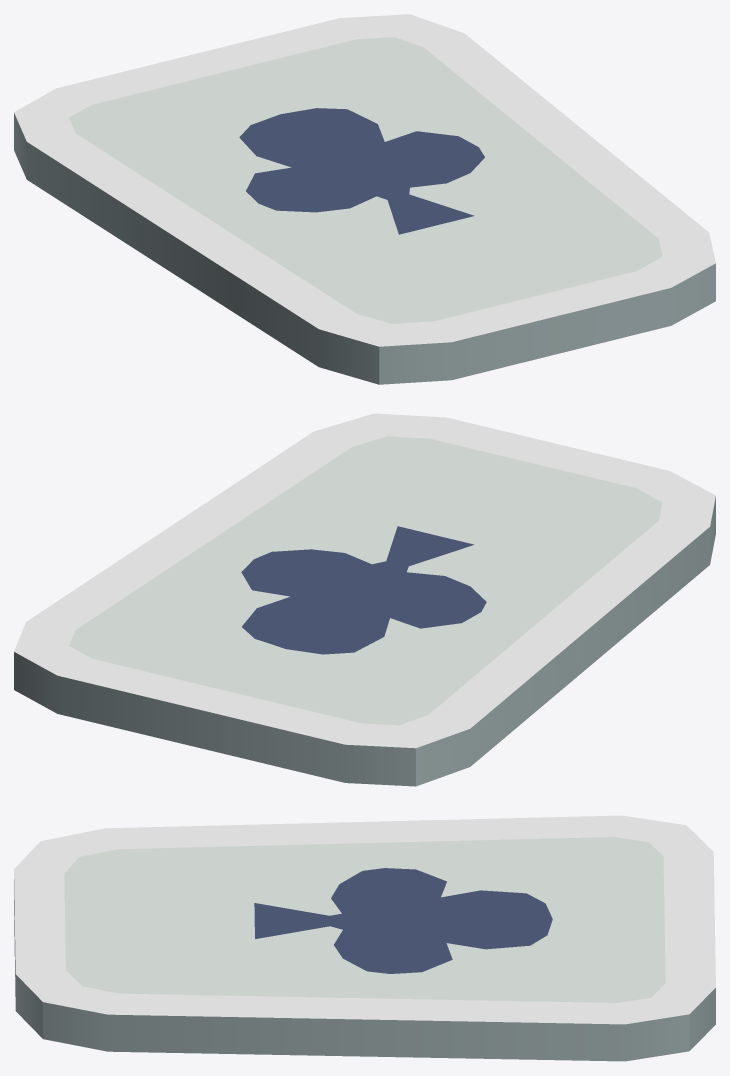
The model's file is Card_Club.fbx.
3 views of the same model, one above another, from view 1: azimuth 30°, elevation 25°; view 2: azimuth 150°, elevation 25°; view 3: azimuth 270°, elevation 25° (orthographic). The views are drawn at different scales.
Visible parts, largest first — view 1: Club; view 2: Club; view 3: Club.
Boxes of the visible parts, box(x1,y1,x2,y2) form: Club: box(14, 14, 715, 384); Club: box(14, 413, 715, 786); Club: box(14, 815, 715, 1061).
Bounding box in the file's own units: 0.3103 × 0.4406 × 0.0257.
